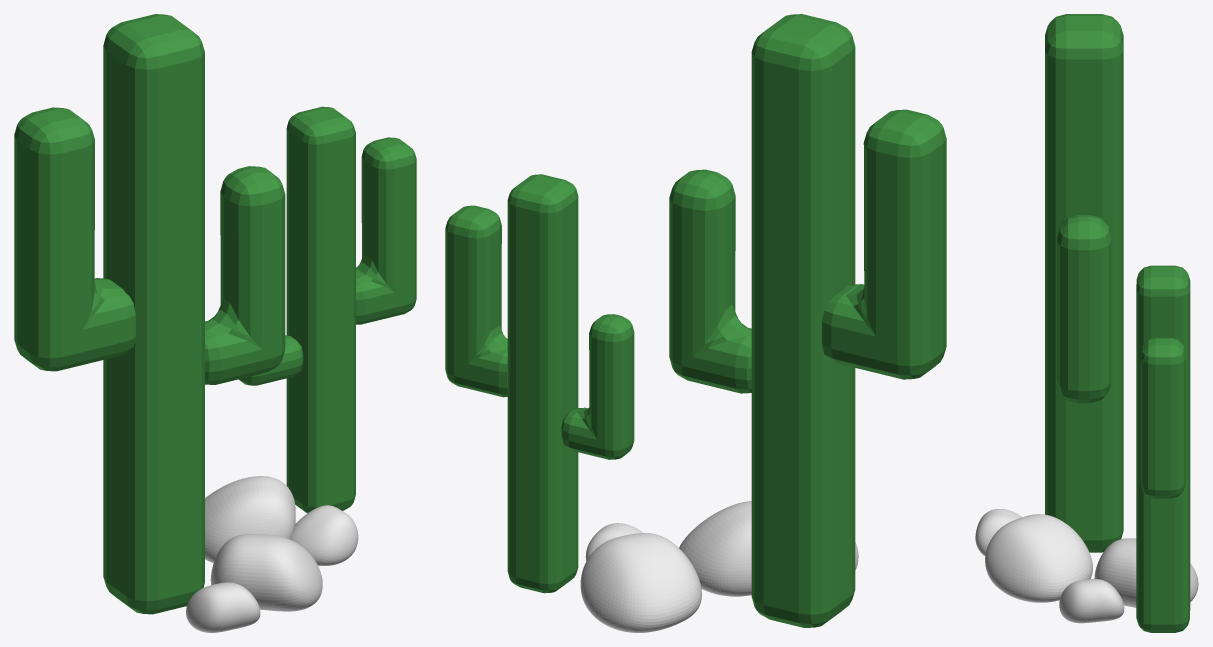
The model's file is outElement2.glb.
3 views of the same model, side by side, from view 1: azimuth 30°, elevation 25°; view 2: azimuth 150°, elevation 25°; view 3: azimuth 270°, elevation 25° (orthographic). The views are drawn at different scales.
Parts seen in each view (by area): view 1: Куб.001, Куб.005, Куб.004, Куб.002, Куб.006, Куб.003; view 2: Куб.001, Куб.005, Куб.002, Куб.004, Куб.003; view 3: Куб.001, Куб.005, Куб.004, Куб.003, Куб.002, Куб.006.
Part boxes in pixels (x1,y1,x2,y2): Куб.001: (14,14,285,614); Куб.005: (239,106,416,513); Куб.004: (210,534,322,611); Куб.002: (205,476,295,563); Куб.006: (186,582,260,632); Куб.003: (289,505,358,565); Куб.001: (669,14,946,627); Куб.005: (445,174,634,593); Куб.002: (580,533,701,632); Куб.004: (679,501,751,596); Куб.003: (585,523,642,560); Куб.001: (1045,14,1123,552); Куб.005: (1136,265,1190,632); Куб.004: (985,514,1092,602); Куб.003: (1059,579,1124,623); Куб.002: (1094,538,1198,607); Куб.006: (975,509,1021,555).
Size of the model in its own units: 2.69 by 3.47 by 1.34.
